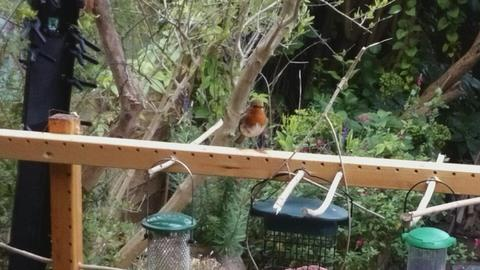robin: (232, 99, 268, 152)
